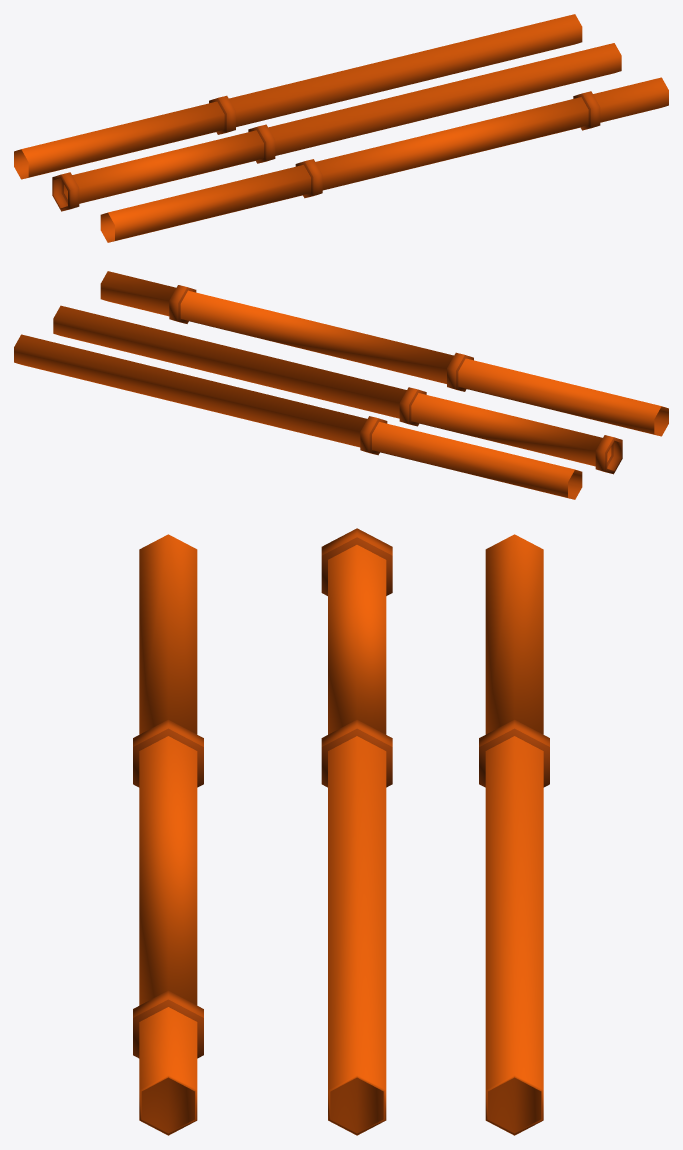
Rendered from TuboFino.fbx.
3 views of the same model, one above another, from view 1: azimuth 30°, elevation 25°; view 2: azimuth 150°, elevation 25°; view 3: azimuth 270°, elevation 25° (orthographic). The views are drawn at different scales.
Visible parts, largest first — view 1: TuboFino; view 2: TuboFino; view 3: TuboFino.
Boxes of the visible parts, x1,y1,x2,y2 form: TuboFino: (14,14,668,242); TuboFino: (14,271,668,499); TuboFino: (133,528,549,1135).
Size of the model in its own units: 257 by 16.52 by 83.91.
